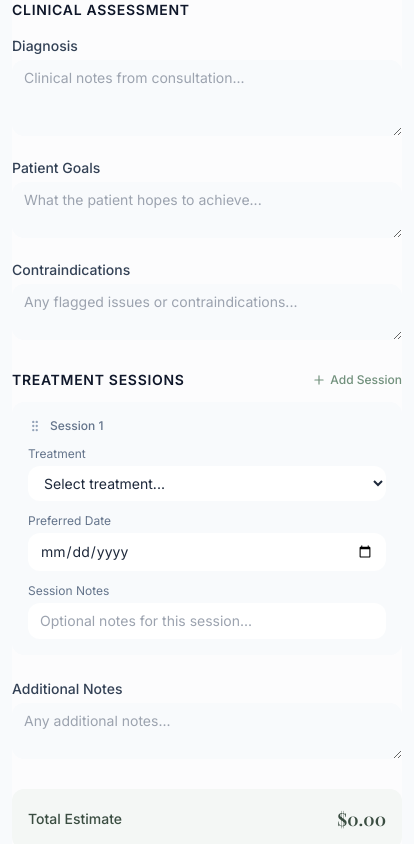
Test: TreatmentPlanBuilder › allows adding and removing sessions
Expected: the element with test id "session-0" is shown, [12,402,402,655]
// Add session
Click the button "Add Session". click: (357, 380)
box: [312,372,402,388]
(page scrolled)
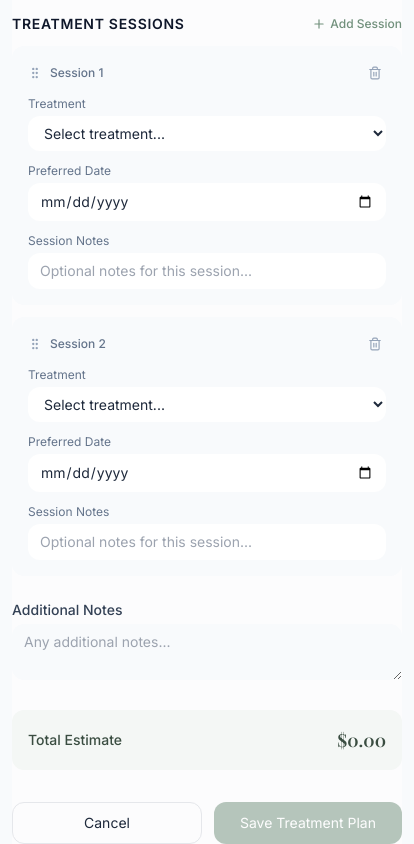
Expected: the element with test id "session-1" is shown, [12,317,402,576]
